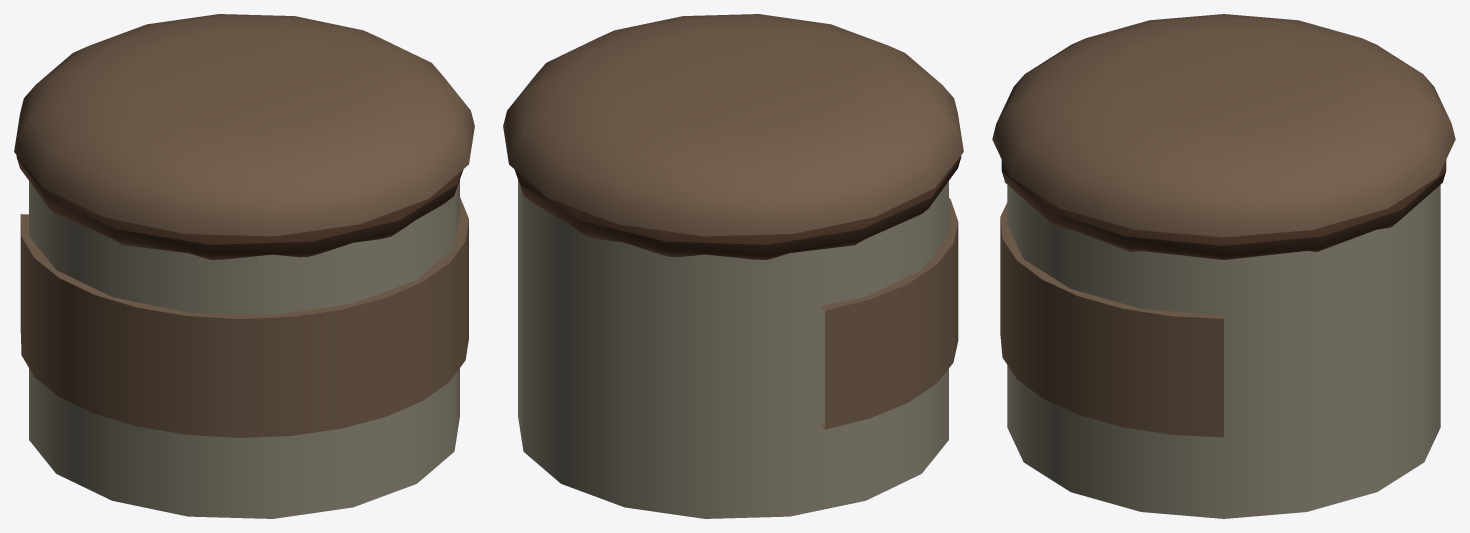
The model's file is remedy.obj.
3 views of the same model, side by side, from view 1: azimuth 30°, elevation 25°; view 2: azimuth 150°, elevation 25°; view 3: azimuth 270°, elevation 25° (orthographic).
Parts seen in each view (by area): view 1: remedy; view 2: remedy; view 3: remedy.
Part boxes in pixels (x1,y1,x2,y2): remedy: (14, 14, 474, 518); remedy: (503, 14, 963, 518); remedy: (992, 14, 1455, 518).
Bounding box in the file's own units: 1.24 × 1.03 × 1.24.
